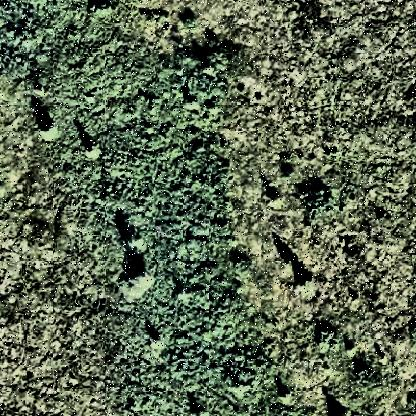tree-top: (118, 267, 156, 305), (302, 179, 334, 211), (125, 228, 151, 255), (354, 364, 376, 388), (83, 140, 105, 158), (294, 271, 314, 289), (39, 123, 60, 137)
